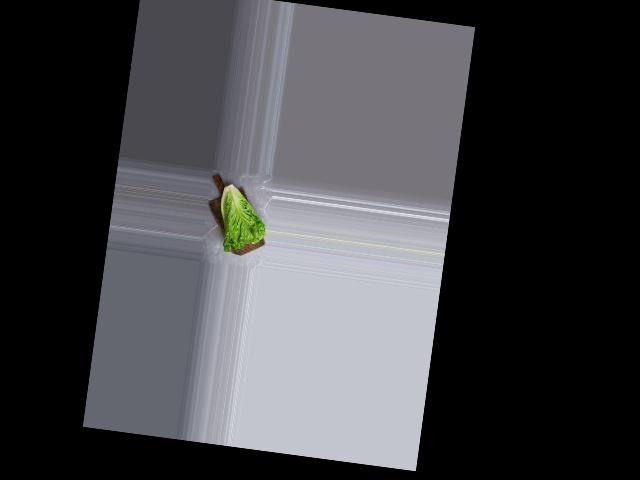lettuce: (207, 179, 271, 256)
